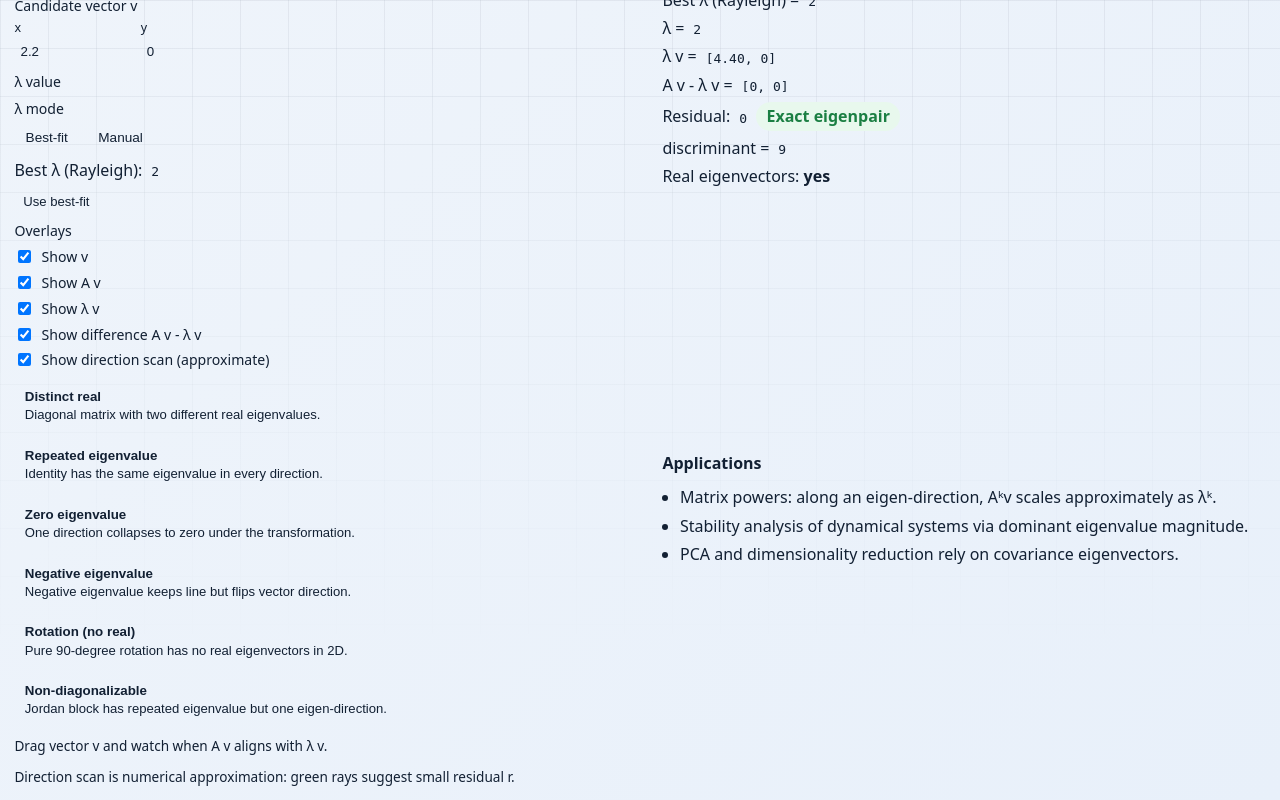
Test case: EigenModule › shows no-real-eigenvector warning for rotation preset
The image size is (1280, 800).
(page scrolled)
Click the button "Rotation (no real)" at [316, 641], box [14,616,618,666]
(page scrolled)
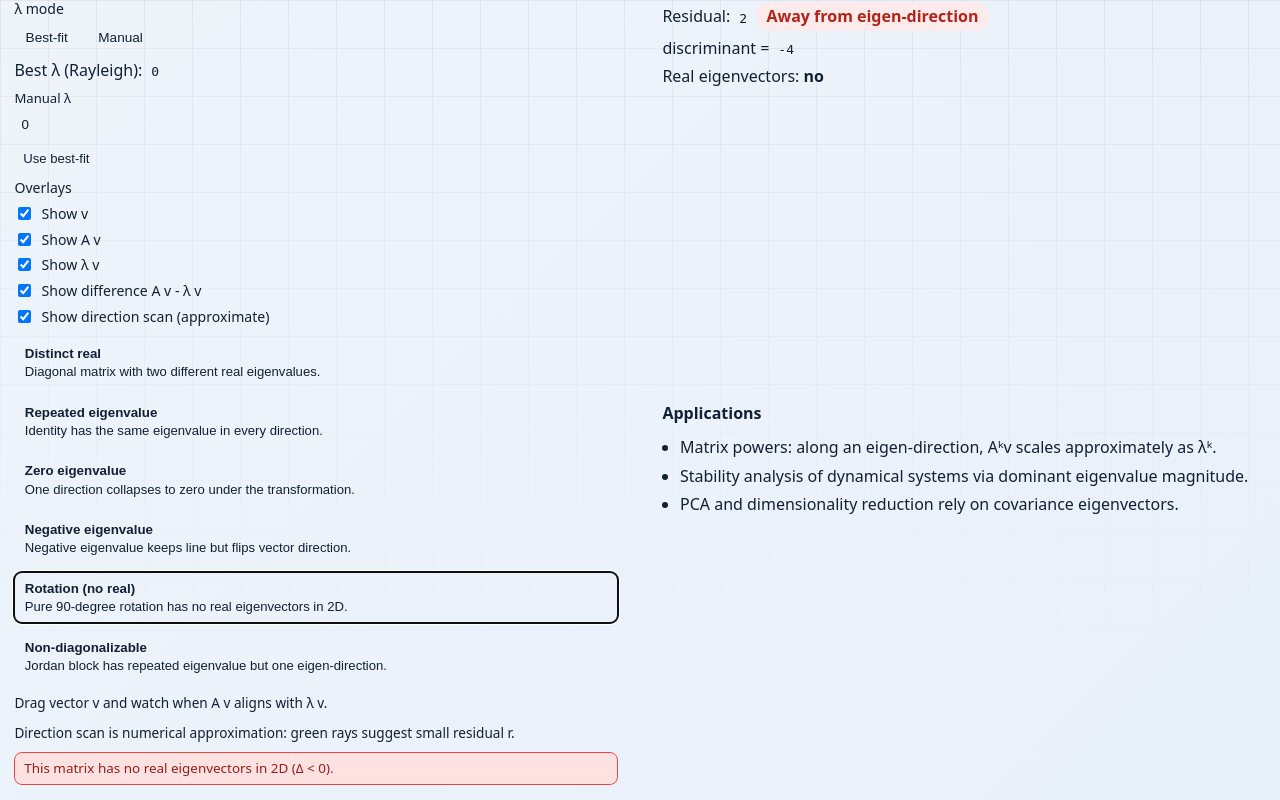
expect the text "This matrix has no real eigenvectors in 2D (Δ < 0)." is shown: met, box [14,752,618,785]
